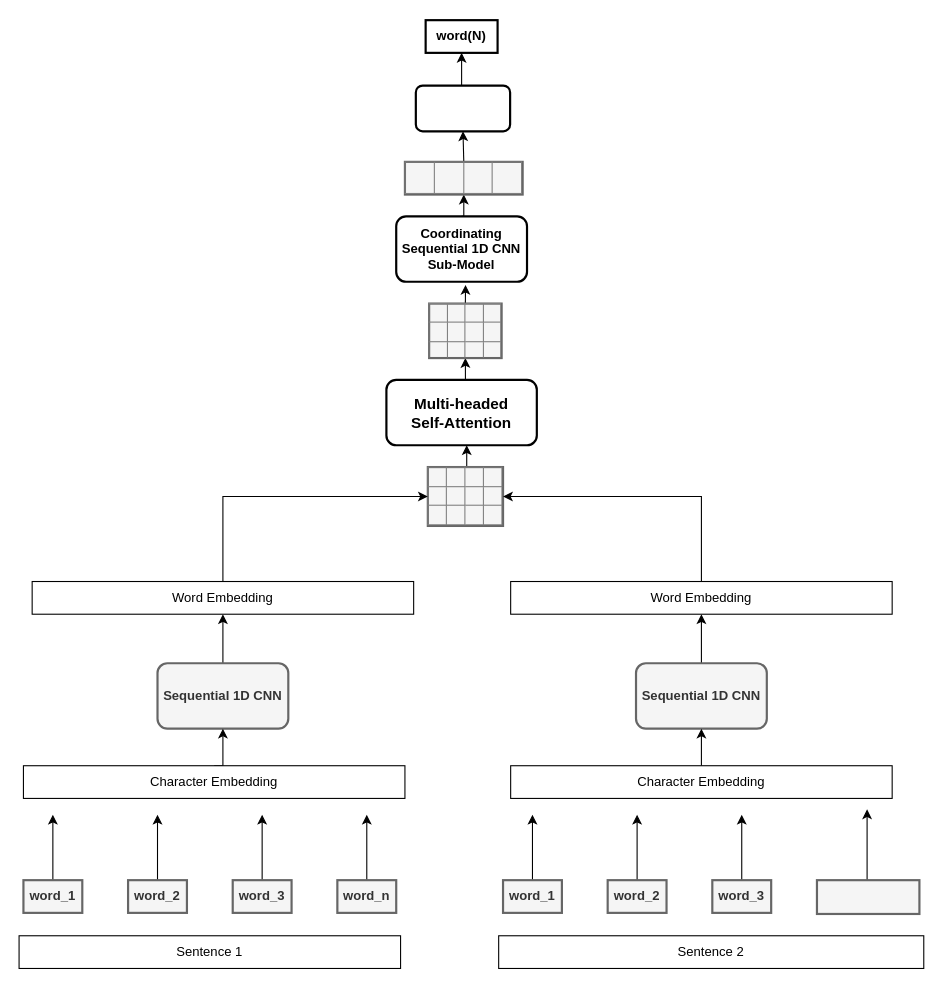
Image size: 943x988. Some labels were removed from this diagram. The centre of each missing label's shape, as x and y in pixels:
"Dense and Softmax layer" belongs at point 462,108.
"partial word_n" belongs at point 867,897.
